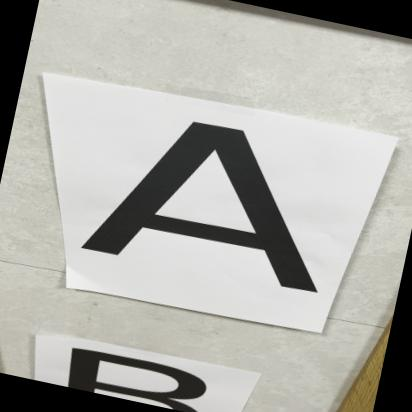seat: (80, 99, 360, 308)
